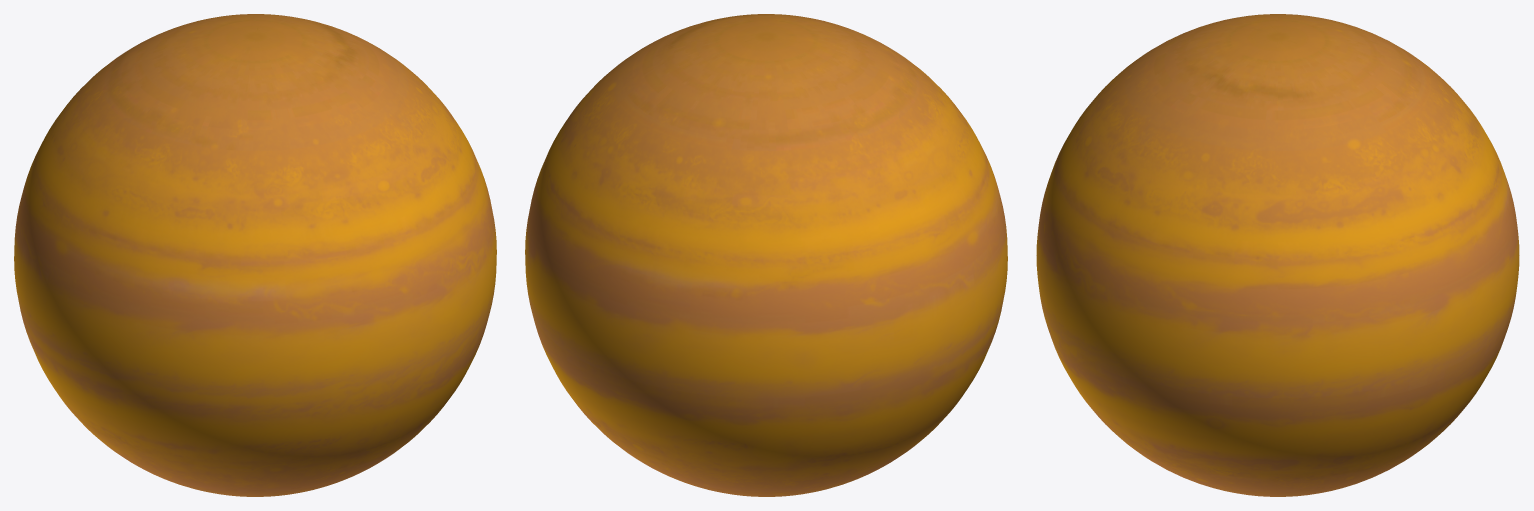
The model's file is TOI_2570_b.glb.
3 views of the same model, side by side, from view 1: azimuth 30°, elevation 25°; view 2: azimuth 150°, elevation 25°; view 3: azimuth 270°, elevation 25° (orthographic).
Visible parts, largest first — view 1: TOI_2570_b; view 2: TOI_2570_b; view 3: TOI_2570_b.
Part boxes in pixels (left/top/right/bottom): TOI_2570_b: left=14, top=14, right=496, bottom=496; TOI_2570_b: left=525, top=14, right=1007, bottom=496; TOI_2570_b: left=1036, top=14, right=1519, bottom=496.
Size of the model in its own units: 2 by 2 by 2.
1 material, 1 textured.
